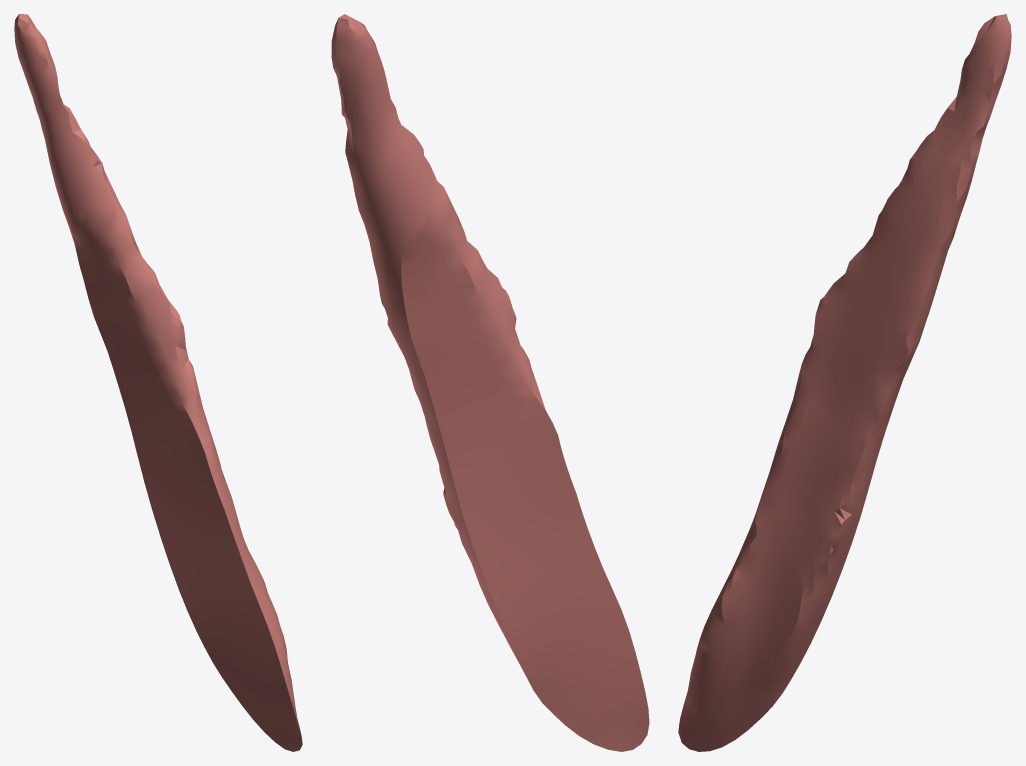
Rendered from fma40795-n_mm1856.glb.
3 renders of one model, left to right at view 1: azimuth 90°, elevation 25°; view 2: azimuth 150°, elevation 25°; view 3: azimuth 270°, elevation 25°, orthographic. The views are drawn at different scales.
Visible parts, largest first — view 1: FMA40795-N_MM1856; view 2: FMA40795-N_MM1856; view 3: FMA40795-N_MM1856.
Boxes of the visible parts, x1=… form: FMA40795-N_MM1856: x1=14, y1=14, x2=302, y2=751; FMA40795-N_MM1856: x1=331, y1=14, x2=649, y2=751; FMA40795-N_MM1856: x1=678, y1=14, x2=1011, y2=751.
Size of the model in its own units: 0.0153 by 0.0773 by 0.0295.
